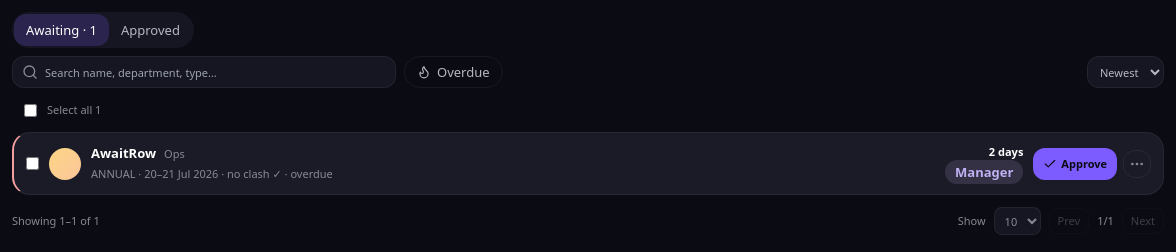
ApprovalWorkspace › queue mode renders tabs, fetches on switch, hides action on history rows
Check: the text "AwaitRow" is shown, box x1=91 y1=143 x2=156 y2=163
Check: the button "Approve" is shown, box x1=1033 y1=148 x2=1117 y2=180
Click the button "Approved" at (150, 30), box x1=109 y1=14 x2=192 y2=46
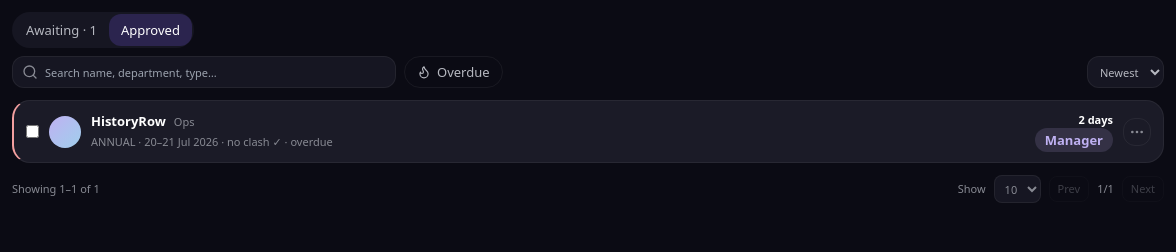
Check: the text "HistoryRow" is shown, box x1=91 y1=111 x2=166 y2=131
